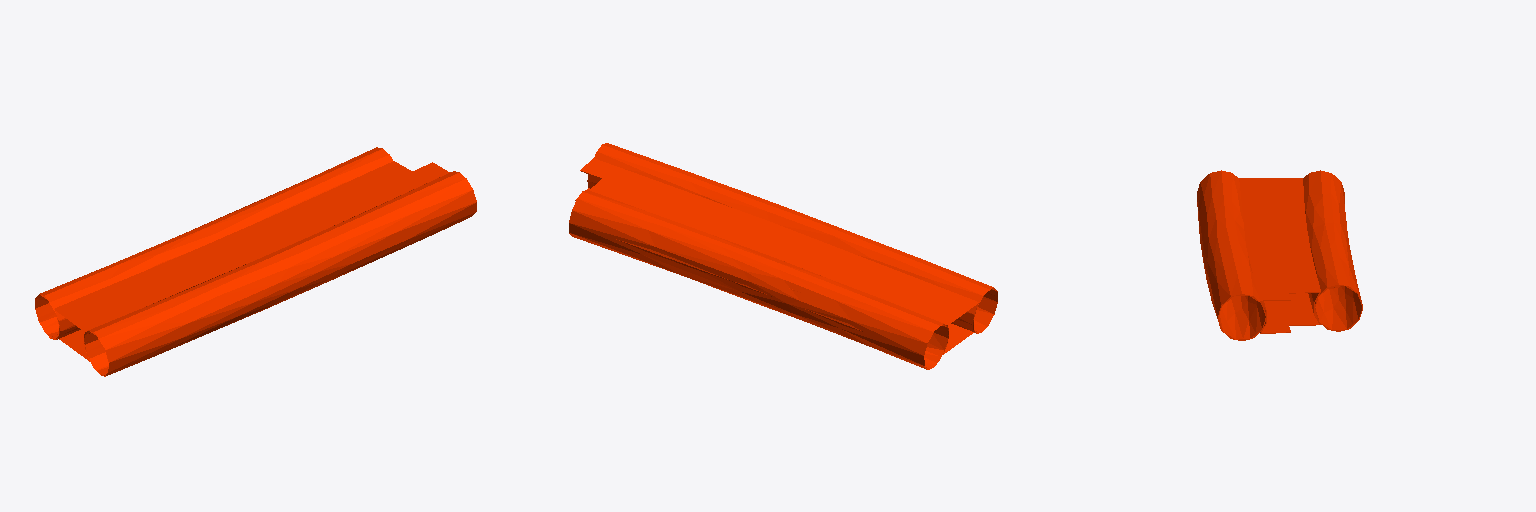
3 renders of one model, left to right at view 1: azimuth 30°, elevation 25°; view 2: azimuth 150°, elevation 25°; view 3: azimuth 270°, elevation 25°, orthographic.
Visible parts, largest first — view 1: g[number redacted]_1; view 2: g[number redacted]_1; view 3: g[number redacted]_1.
Boxes of the visible parts, box(x1,y1,x2,y2) form: g[number redacted]_1: box(35, 147, 476, 376); g[number redacted]_1: box(569, 143, 997, 369); g[number redacted]_1: box(1197, 170, 1362, 340).
Size of the model in its own units: 894 by 233 by 337.